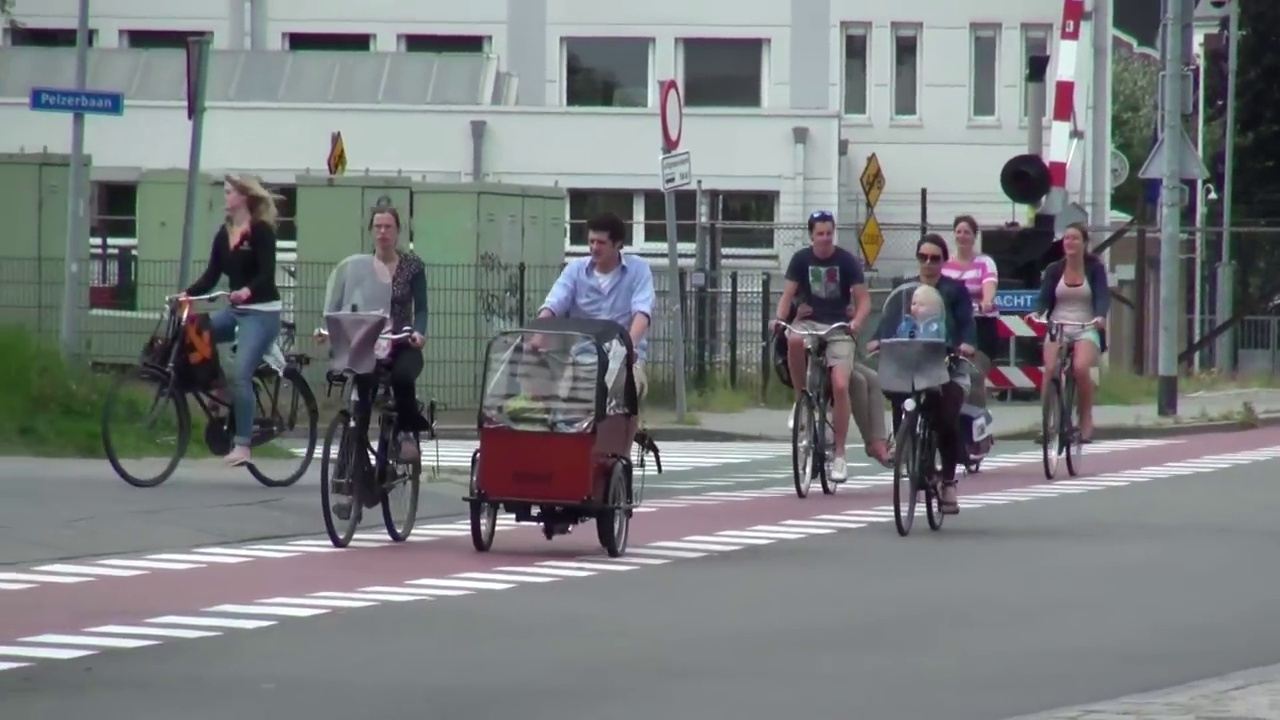cyclist_front: (320, 203, 434, 547), (884, 238, 976, 549), (775, 206, 865, 504), (1032, 220, 1106, 490)
cyclist_side: (115, 167, 325, 485)
